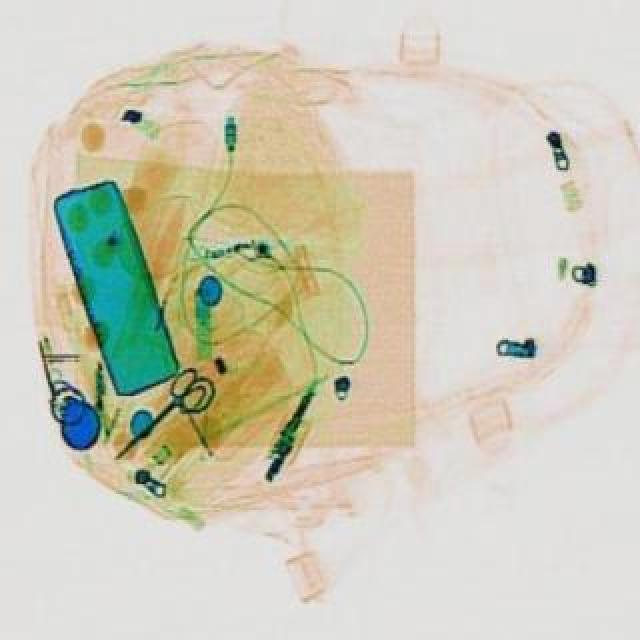pliers: (98, 358, 222, 474)
